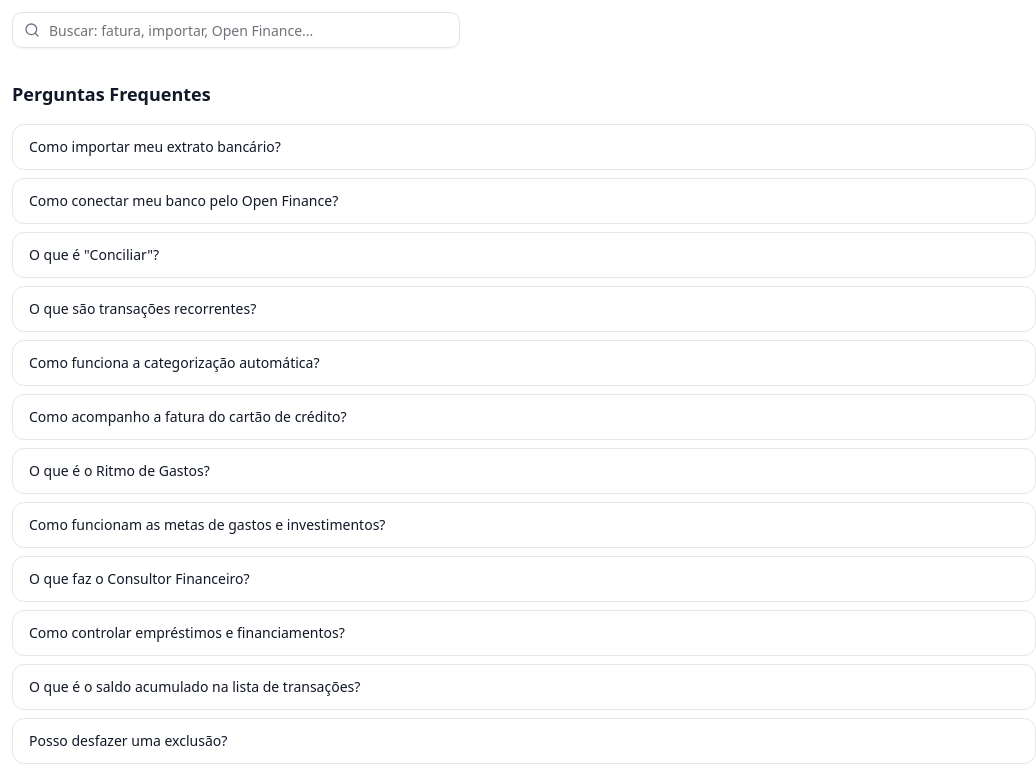
Test: CentralDeAjuda › diz quando a busca não acha nada e oferece o contato
Type "xyzxyz" into the search field.
click(236, 30); type("xyzxyz")  # box [12,12,460,48]
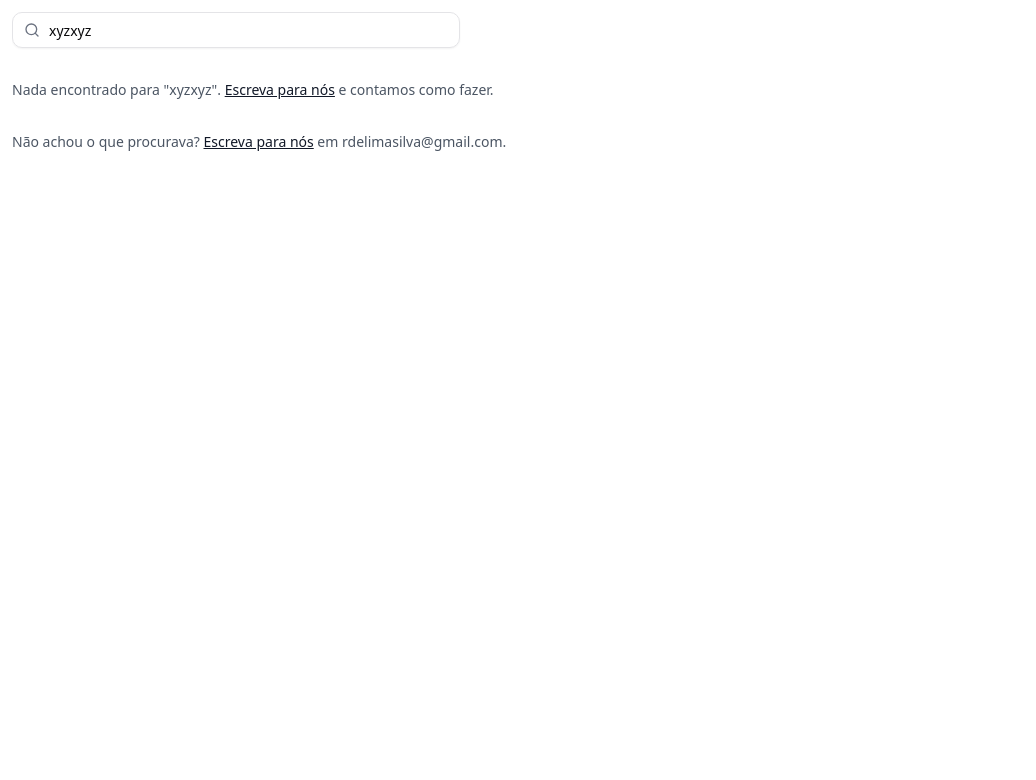
expect the text "Nada encontrado" is shown: met, box [12,80,169,99]
expect the link "Escreva para nós" next to "e contamos como fazer." is shown: met, box [225,80,335,99]
